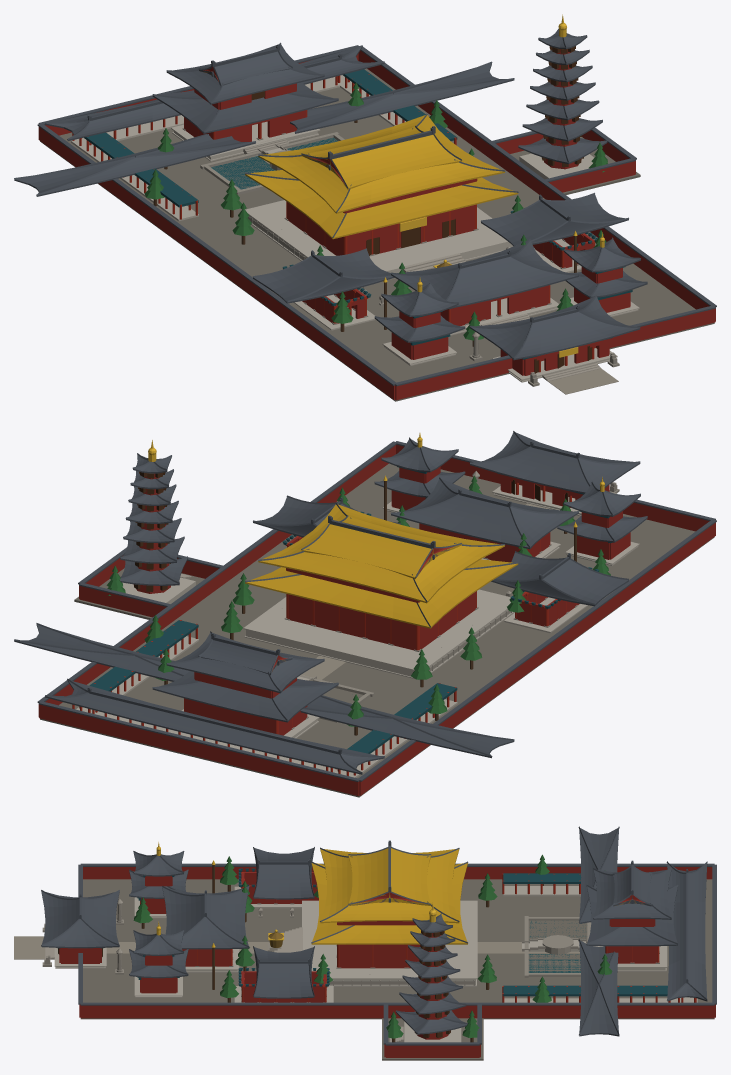
Rendered from temple.glb.
3 views of the same model, one above another, from view 1: azimuth 30°, elevation 25°; view 2: azimuth 150°, elevation 25°; view 3: azimuth 270°, elevation 25° (orthographic). The views are drawn at different scales.
Parts seen in each view (by area): view 1: T_tile, T_wall, T_ground, T_tile_gold, T_platform, T_leaf, T_beam, T_stone, T_pillar, T_wood, T_step, T_water (+2 smaller); view 2: T_tile, T_wall, T_ground, T_tile_gold, T_platform, T_leaf, T_beam, T_pillar, T_stone, T_wood; view 3: T_tile, T_ground, T_wall, T_tile_gold, T_platform, T_leaf, T_beam, T_stone, T_path, T_pillar, T_step, T_wood (+2 smaller).
Boxes of the visible parts, box(x1,y1,x2,y2) form: T_tile: box(14, 28, 716, 386); T_wall: box(38, 49, 715, 400); T_ground: box(40, 68, 714, 401); T_tile_gold: box(245, 115, 518, 239); T_platform: box(71, 75, 639, 382); T_leaf: box(144, 82, 607, 340); T_beam: box(84, 69, 632, 359); T_stone: box(182, 128, 619, 386); T_pillar: box(72, 74, 595, 372); T_wood: box(251, 46, 591, 373); T_step: box(243, 136, 601, 381); T_water: box(211, 137, 337, 189); T_tile: box(14, 431, 716, 781); T_wall: box(38, 444, 715, 795); T_ground: box(40, 463, 714, 797); T_tile_gold: box(245, 504, 518, 628); T_platform: box(76, 484, 639, 777); T_leaf: box(106, 475, 610, 726); T_beam: box(89, 466, 611, 753); T_pillar: box(72, 482, 576, 775); T_stone: box(282, 471, 619, 729); T_wood: box(134, 472, 568, 591); T_tile: box(41, 826, 716, 1045); T_ground: box(80, 879, 714, 1060); T_wall: box(59, 867, 715, 1057); T_tile_gold: box(311, 848, 467, 944); T_platform: box(54, 886, 697, 1042); T_leaf: box(133, 854, 612, 1038); T_beam: box(57, 868, 667, 996); T_stone: box(42, 898, 659, 1002); T_path: box(14, 936, 579, 959); T_pillar: box(197, 872, 696, 1002); T_step: box(45, 927, 601, 1042); T_wood: box(58, 930, 450, 1037).
Bounding box in the file's own units: 130 × 39.8 × 180.
